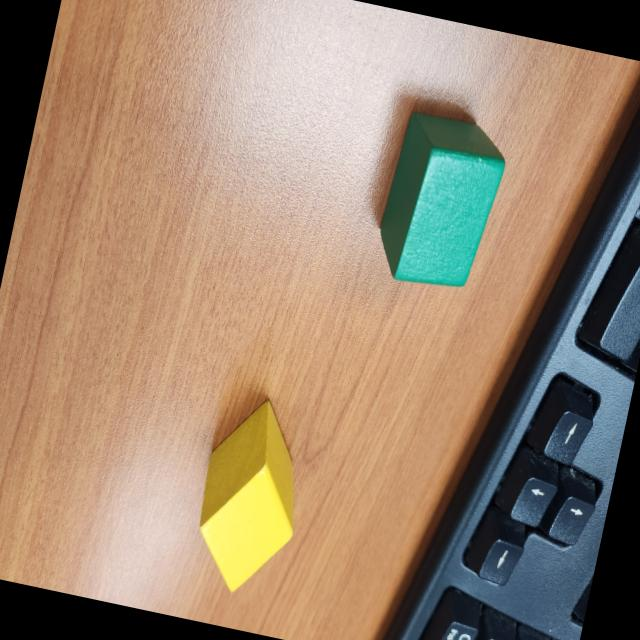green: (370, 107, 513, 296)
yellow: (181, 390, 319, 604)
